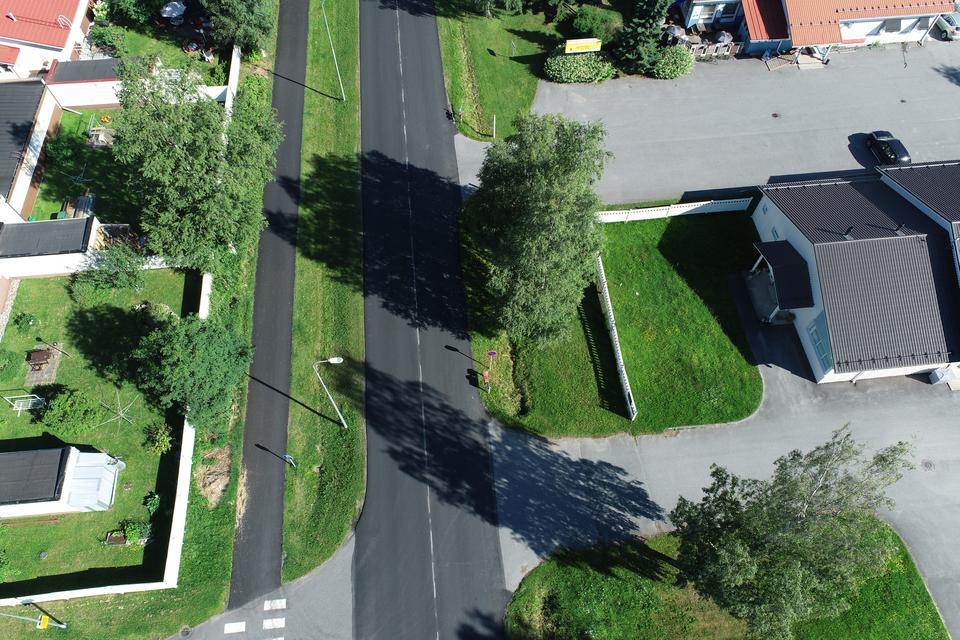intersection: (313, 410, 588, 636), (327, 123, 517, 239)
